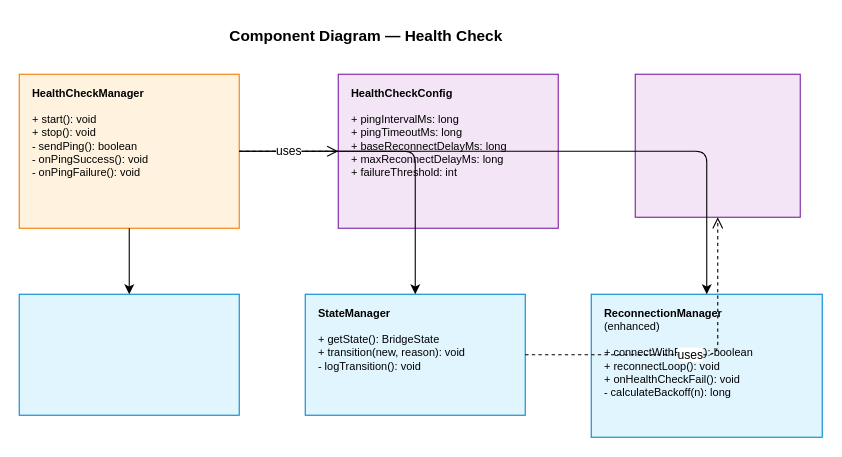
The diagram is 842 pixels wide and 457 high, and some of its shapes have lost their labels. The centre of each missing label's shape, as x and y in pixels:
"BridgeState (enum) CONNECTED DISCONNECTED RECONNECTING" goes at pixel 717 145.
"PingScheduler + schedule(interval): void + cancel(): void - onTick(): void" goes at pixel 128 354.
